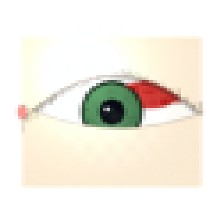hemorrhage_spot: (110, 63, 189, 127)
